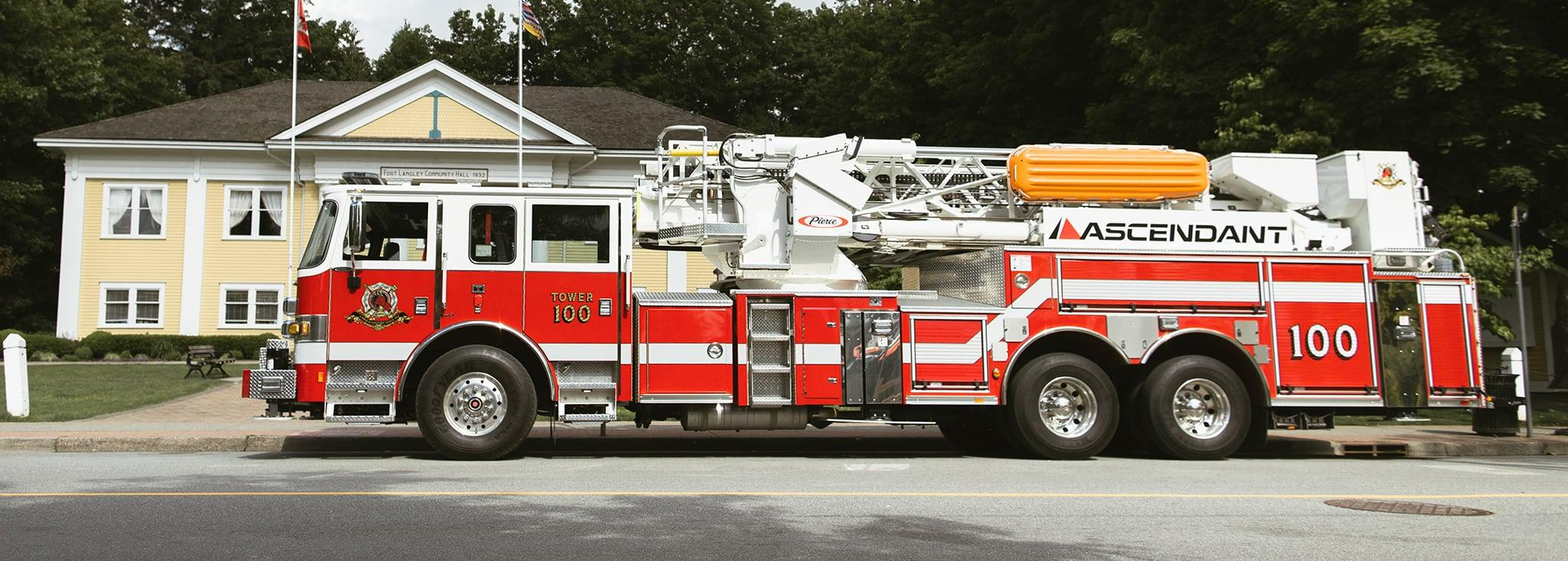Fire-engine: (240, 124, 1496, 460)
